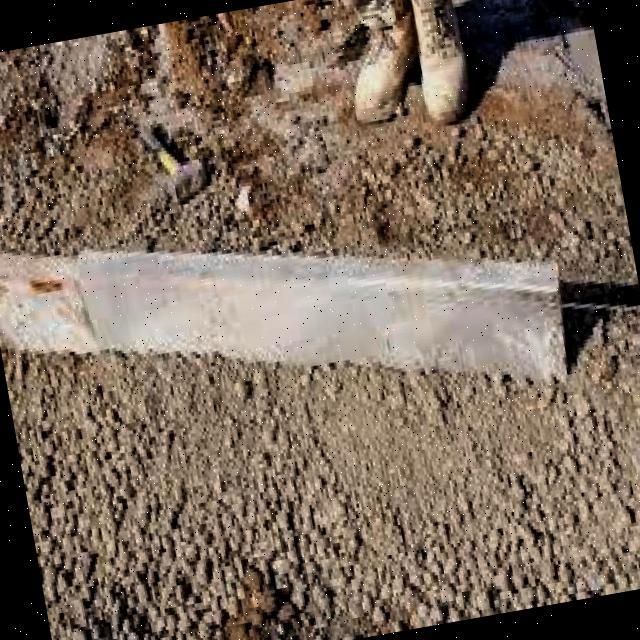curb: (1, 252, 569, 383)
